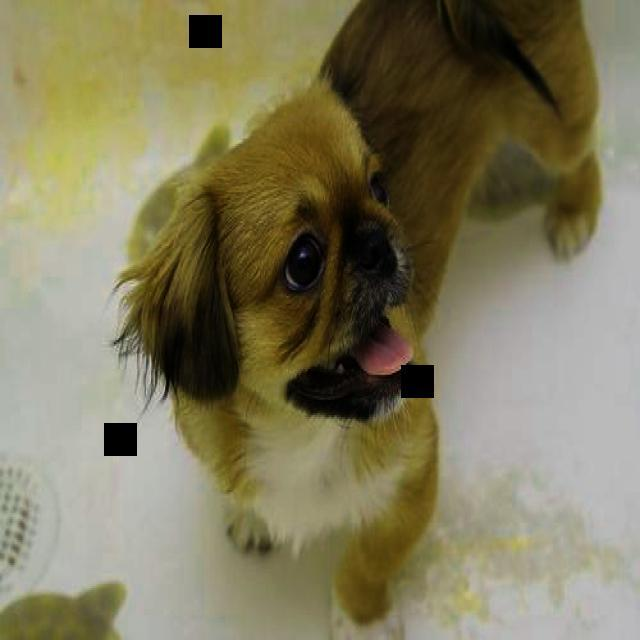adult_dog: (111, 0, 612, 626)
